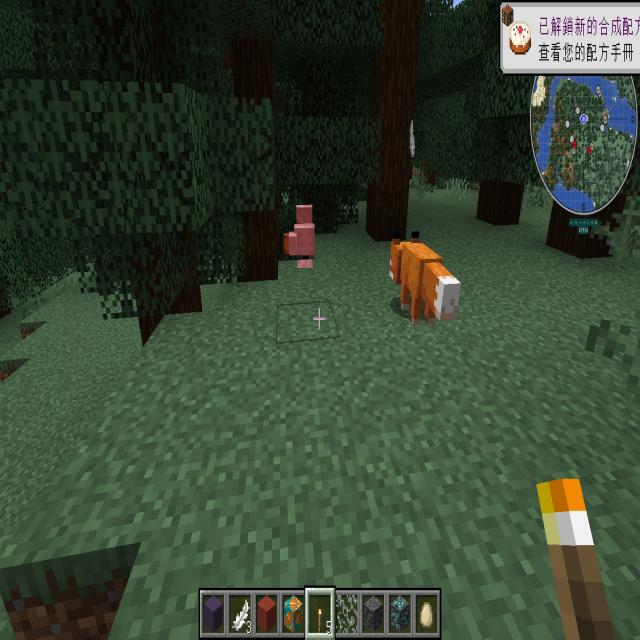Fox: (382, 224, 470, 340)
